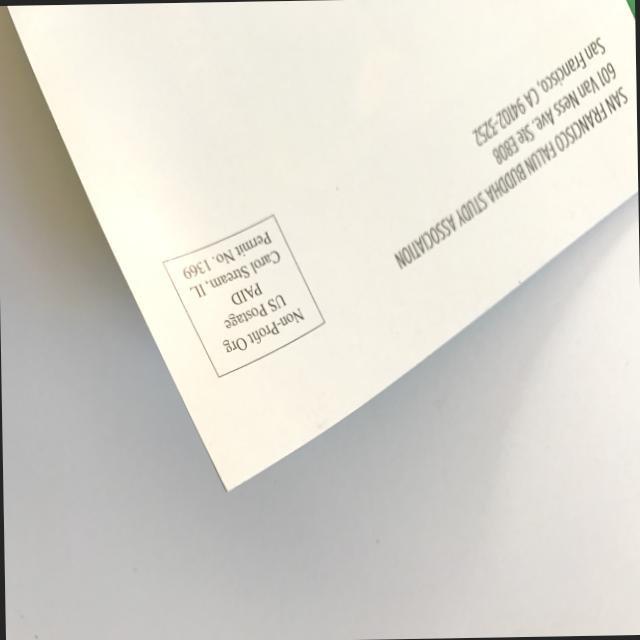Paper: (4, 0, 640, 514)
